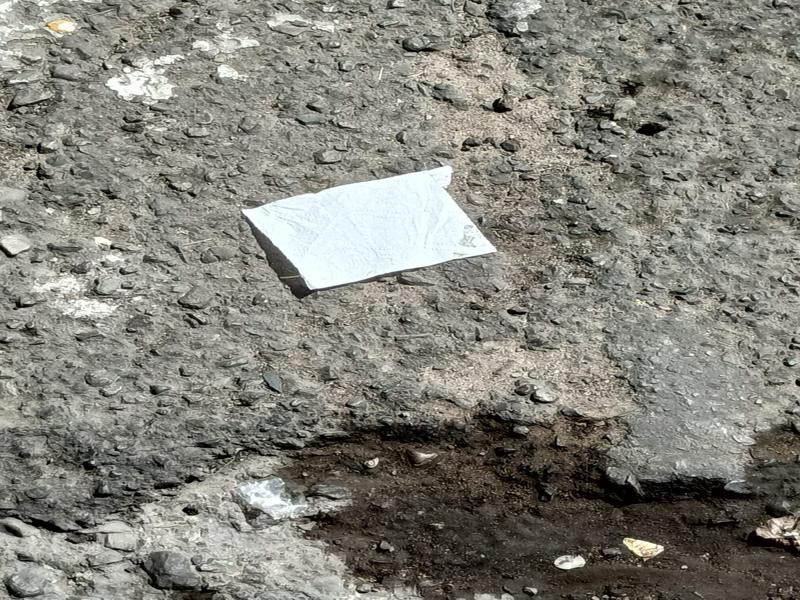papel: (242, 167, 497, 292)
